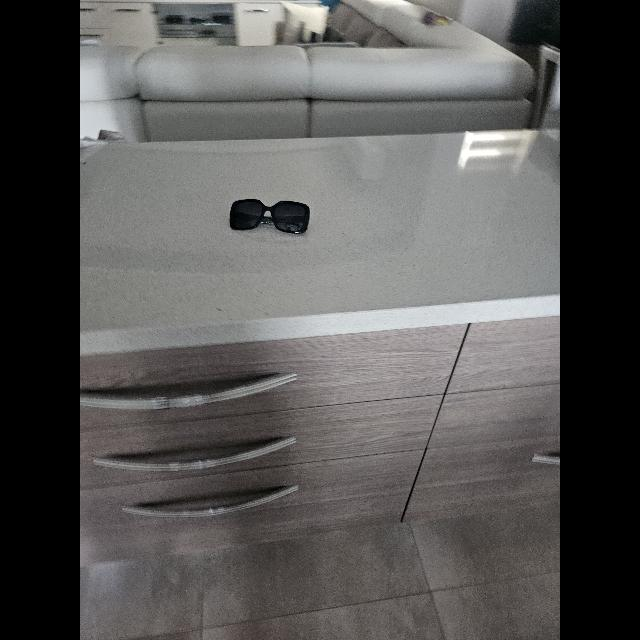Sunglasses: (230, 199, 310, 233)
